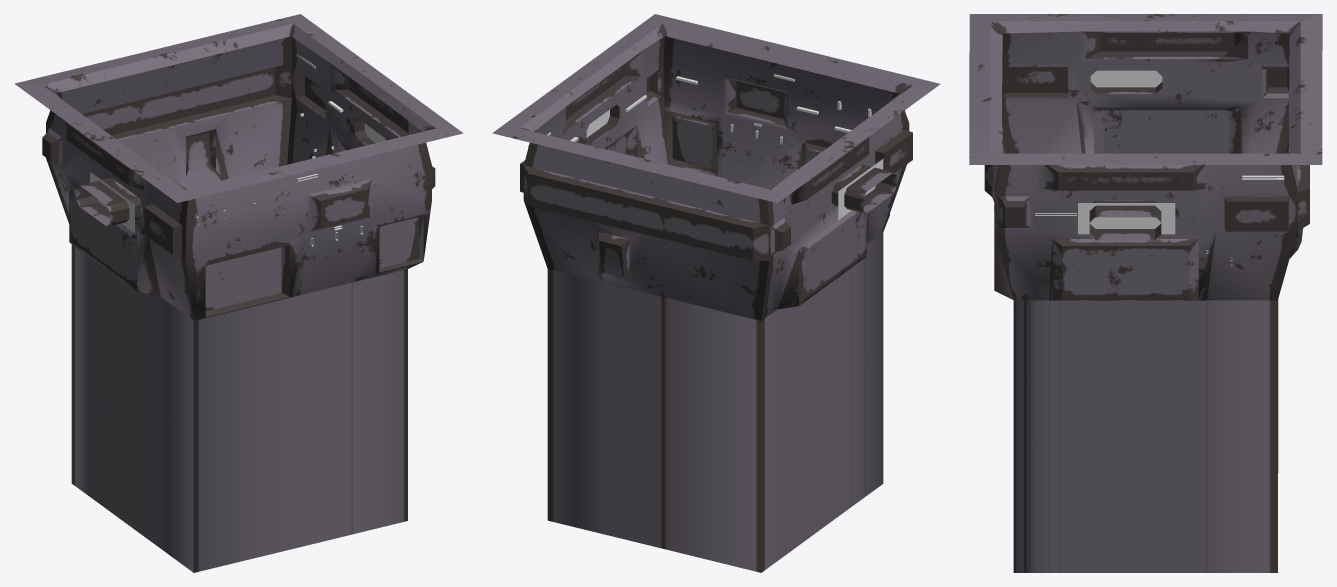
File: DiscrictWall.fbx
The picture shows the model from 3 angles, left to right: view 1: azimuth 30°, elevation 25°; view 2: azimuth 150°, elevation 25°; view 3: azimuth 270°, elevation 25°; orthographic projection. The views are drawn at different scales.
Parts seen in each view (by area): view 1: DistrictWall; view 2: DistrictWall, Lights; view 3: DistrictWall, PhasePass, PhasePass.001.
Boxes of the visible parts, x1,y1,x2,y2 form: DistrictWall: [14, 14, 463, 572]; DistrictWall: [492, 14, 940, 572]; Lights: [528, 74, 871, 146]; DistrictWall: [969, 14, 1322, 572]; PhasePass: [1078, 203, 1175, 234]; PhasePass.001: [1090, 70, 1162, 87].
Bounding box in the file's own units: 2236 × 2734 × 2044.
